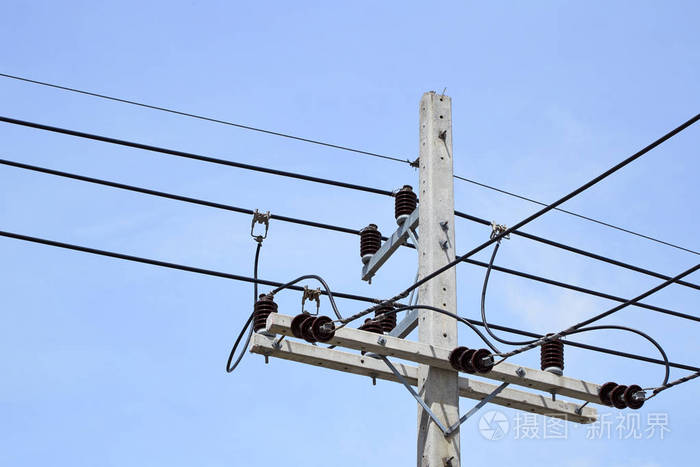insulator: (287, 314, 337, 345), (598, 381, 647, 411), (449, 345, 493, 374)
